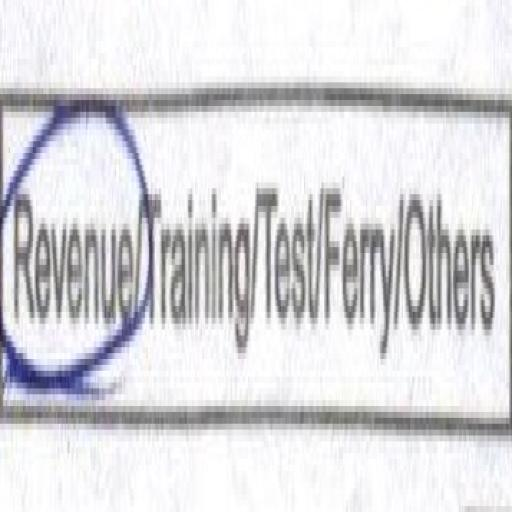check: (2, 12, 141, 479)
